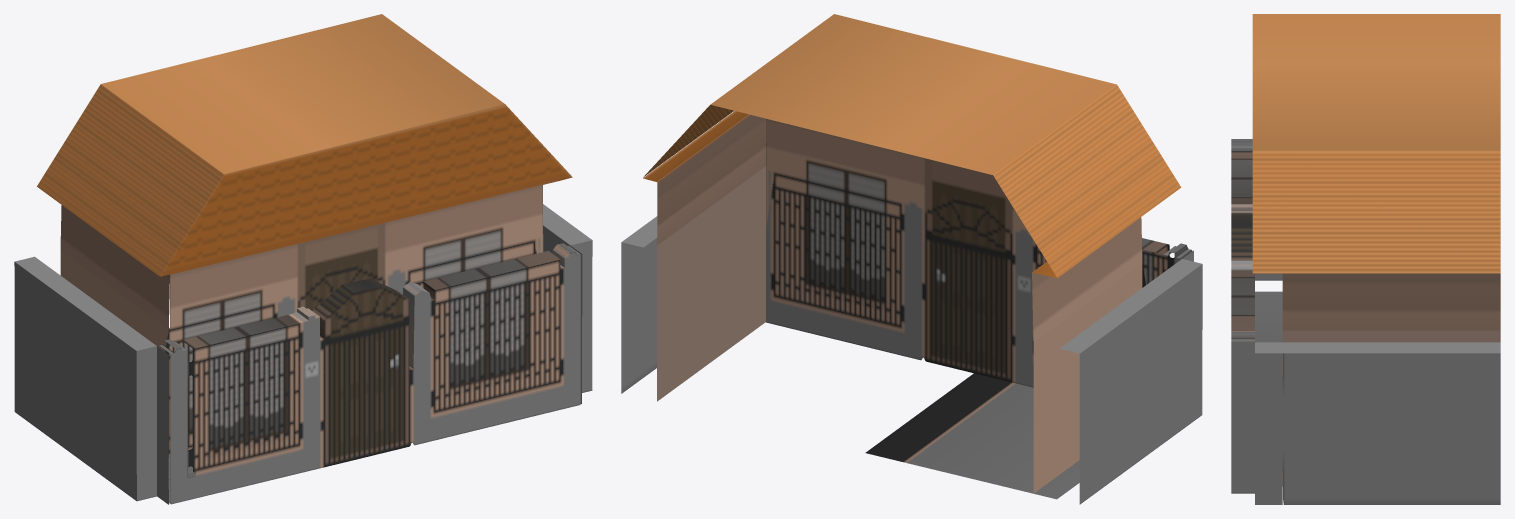
File: RandomHouse3.fbx
3 views of the same model, side by side, from view 1: azimuth 30°, elevation 25°; view 2: azimuth 150°, elevation 25°; view 3: azimuth 270°, elevation 25° (orthographic).
Visible parts, largest first — view 1: Plane.006; view 2: Plane.006; view 3: Plane.006.
Part boxes in pixels (box(x1,y1,x2,y2)): Plane.006: box(14, 14, 592, 504); Plane.006: box(621, 14, 1202, 504); Plane.006: box(1231, 14, 1500, 504).
Bounding box in the file's own units: 4625 × 2998 × 2351.
1 material, 1 textured.
